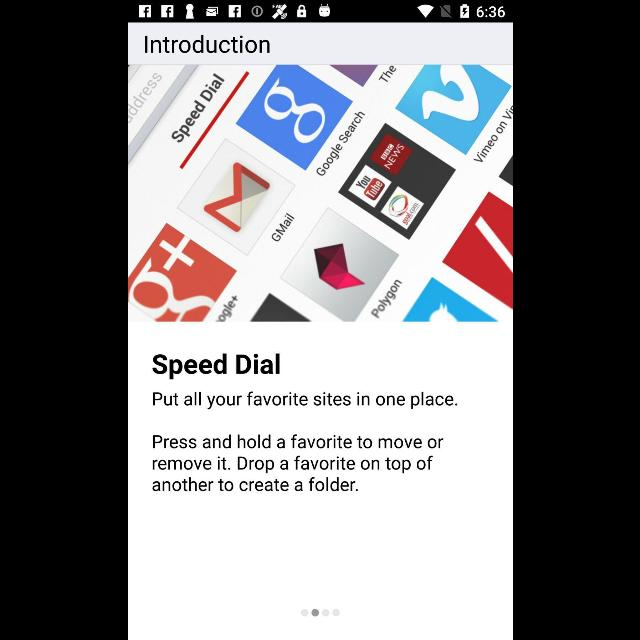image: (128, 66, 512, 322)
pageindicator: (300, 609, 340, 617)
text: (152, 434, 442, 492), (152, 391, 456, 409), (151, 352, 279, 380), (144, 34, 270, 54)
uppertaskbar: (128, 1, 512, 23)
